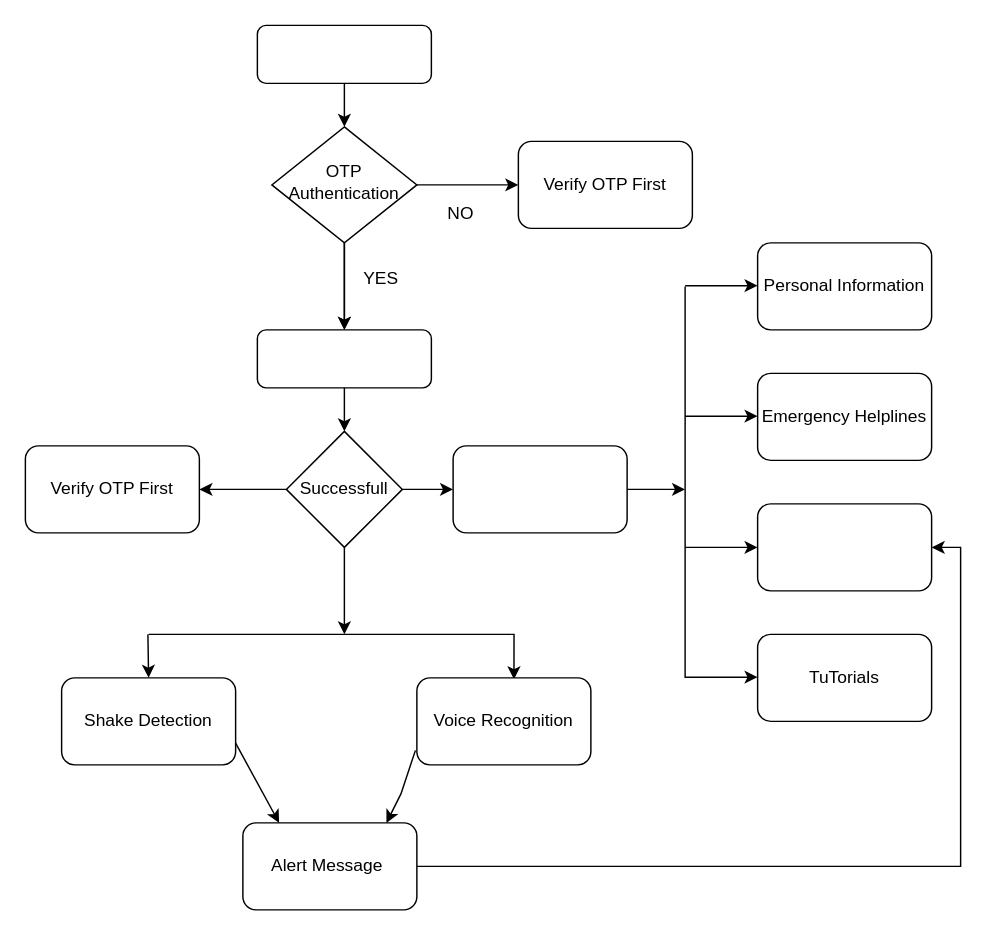
This 998x935 diagram has some shape labels left out. Here are the shapes that lost their labels. From the top down, the centre of each, then its label:
point 343,53: Register
point 343,358: Login
point 539,488: DASHBOARD
point 844,546: Trusted Contacts
